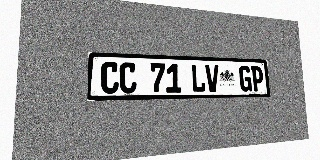1: (166, 63, 181, 93)
7: (150, 63, 166, 93)
C: (101, 62, 119, 94), (119, 62, 137, 94)
G: (239, 66, 252, 92)
L: (191, 64, 206, 92)
P: (251, 66, 264, 92)
V: (205, 65, 220, 92)
